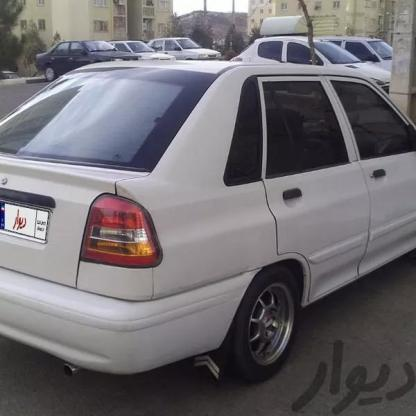Car: (0, 56, 416, 387), (224, 27, 405, 94), (24, 34, 124, 72), (151, 28, 218, 70), (113, 32, 173, 78), (330, 32, 400, 69)
